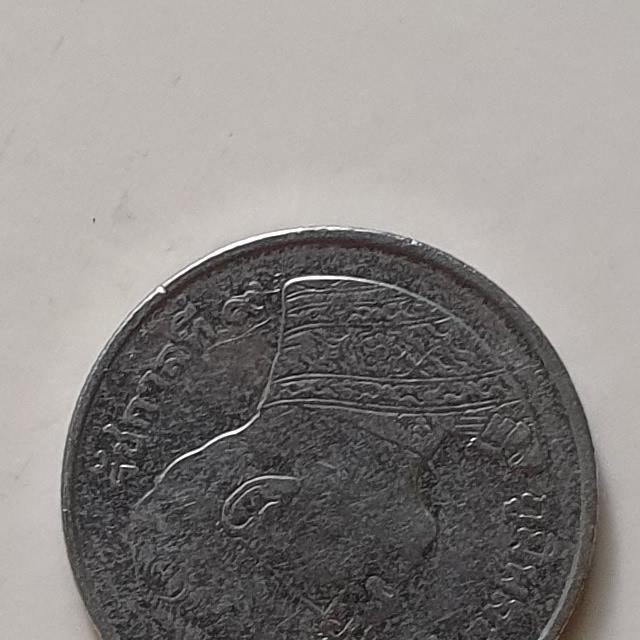1 Bath: (50, 220, 605, 640)
